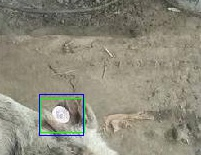text: (40, 98, 84, 132)
